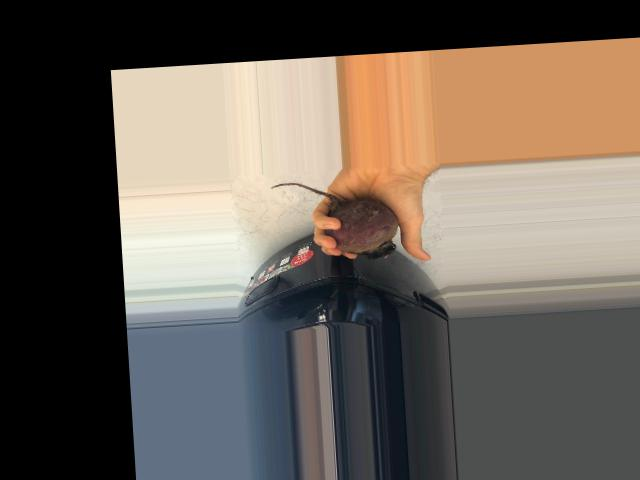beet: (270, 175, 399, 264)
